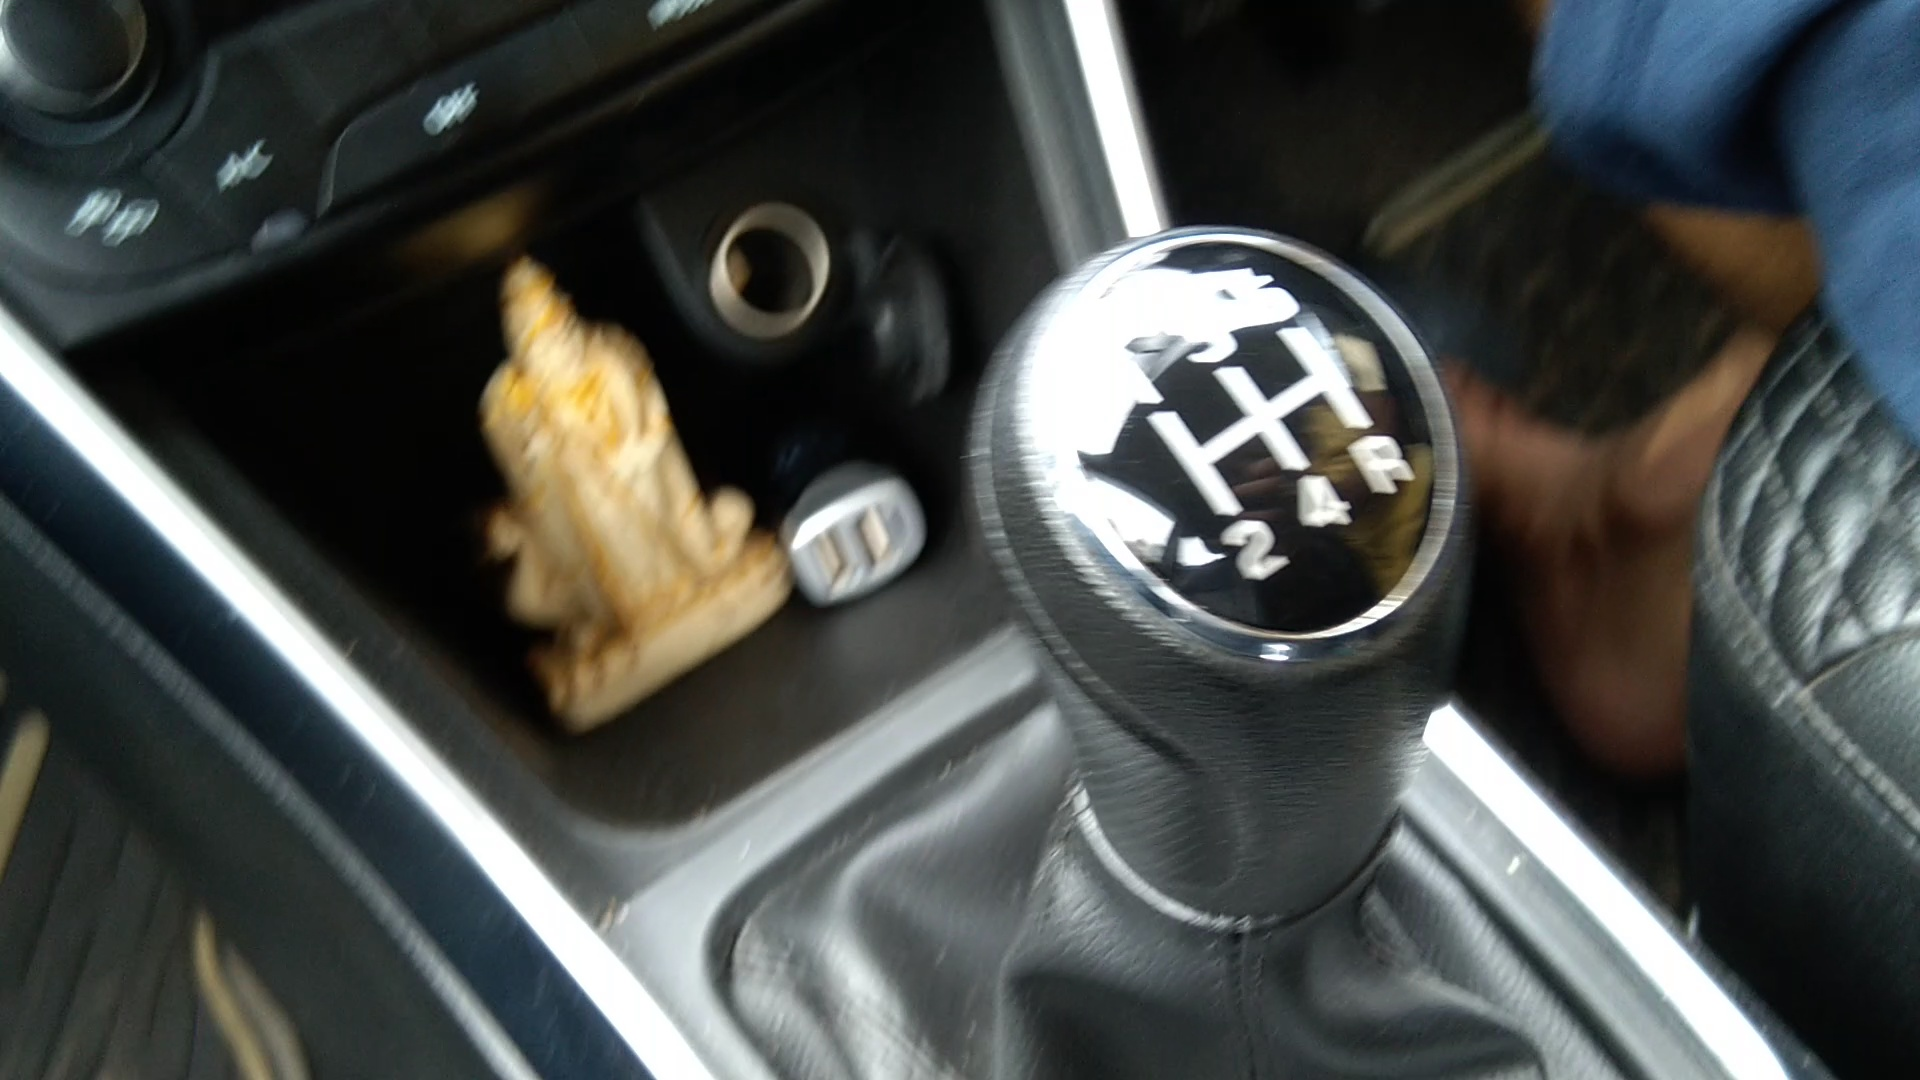manual_gear: (920, 220, 1472, 985)
